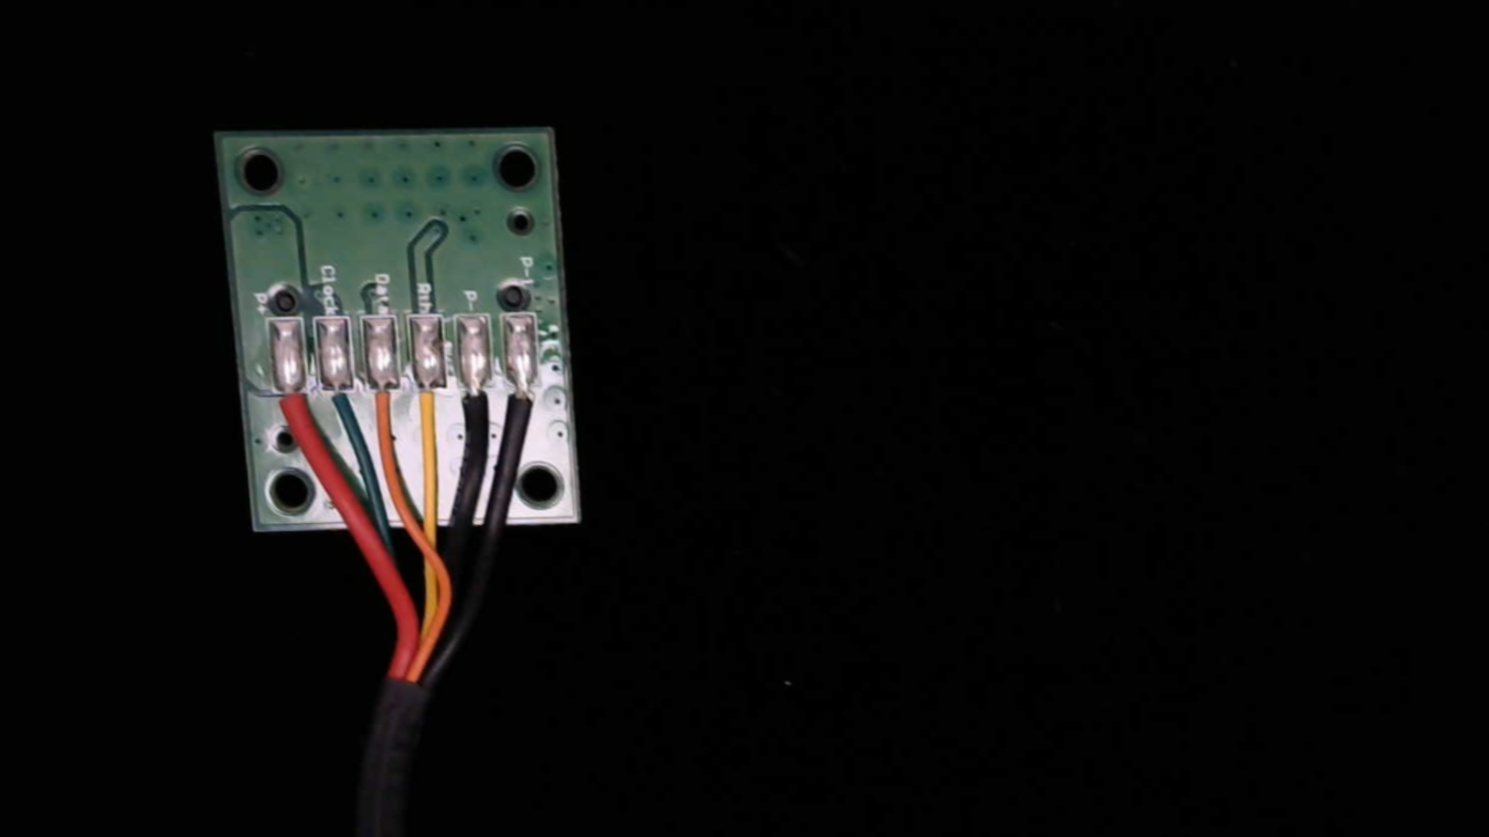Black: (456, 365, 496, 447)
Black1: (501, 364, 544, 445)
Green: (317, 367, 360, 442)
Orange: (364, 362, 406, 448)
Red: (268, 368, 312, 452)
Yellow: (407, 363, 451, 451)
